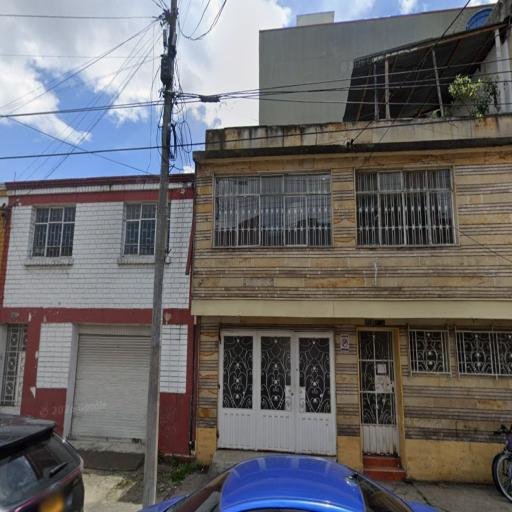Casa: (188, 120, 512, 488), (2, 172, 197, 464)
postes: (141, 0, 222, 509)
